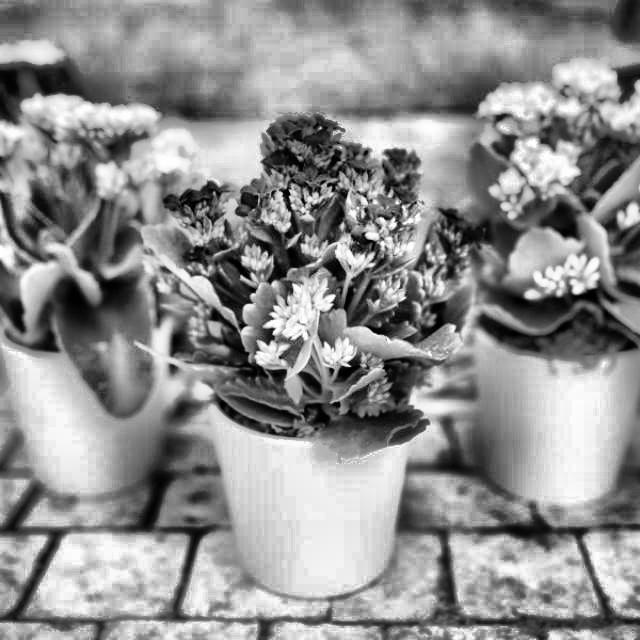plants: (179, 124, 441, 594), (474, 73, 639, 515), (0, 99, 164, 502)
